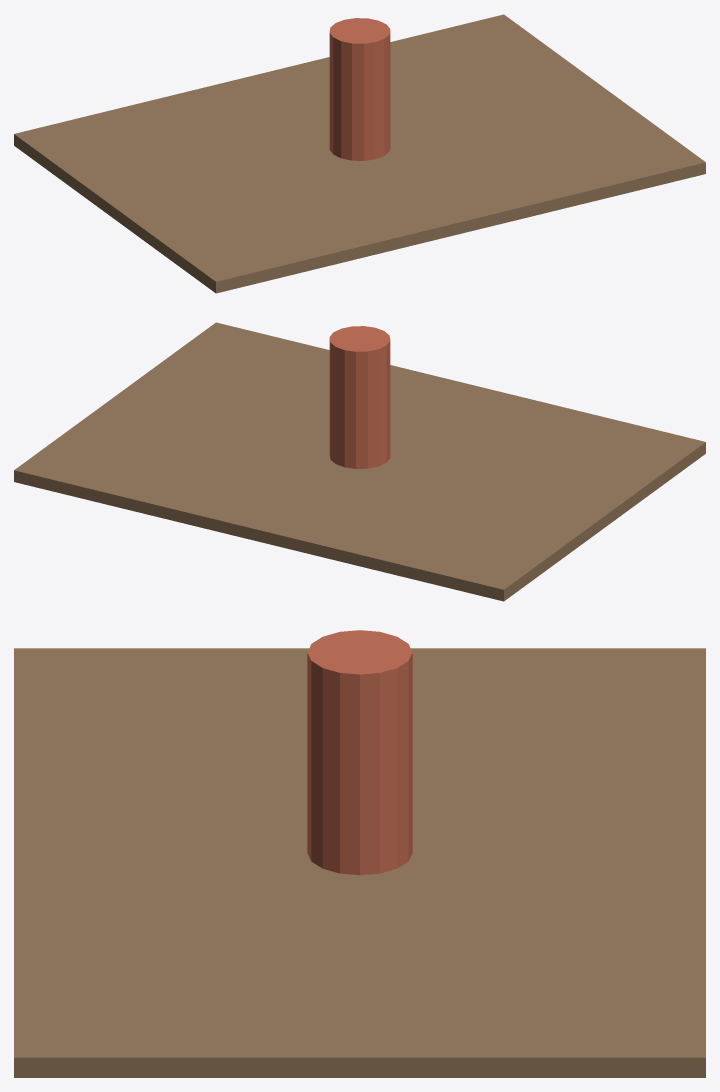
Rendered from underwater_post.glb.
3 renders of one model, top to bottom at view 1: azimuth 30°, elevation 25°; view 2: azimuth 150°, elevation 25°; view 3: azimuth 270°, elevation 25°, orthographic. The views are drawn at different scales.
Visible parts, largest first — view 1: wood, red; view 2: wood, red; view 3: wood, red.
Part boxes in pixels (box(x1,y1,x2,y2)): wood: box(14, 14, 705, 293); red: box(329, 18, 390, 160); wood: box(14, 322, 705, 601); red: box(329, 326, 390, 468); wood: box(14, 648, 705, 1077); red: box(307, 630, 412, 875).
Bounding box in the file's own units: 7 × 1.76 × 5.
